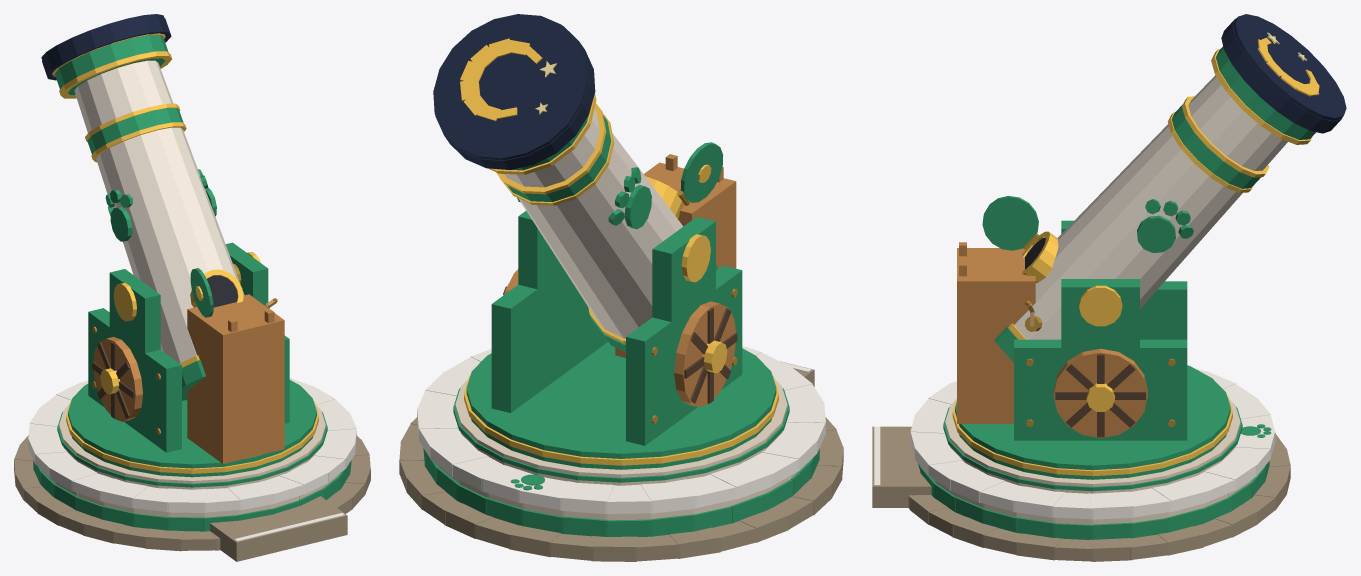
Rendered from CatCafe_Camp_Cannon_Ruins.glb.
The picture shows the model from 3 angles, left to right: view 1: azimuth 30°, elevation 25°; view 2: azimuth 150°, elevation 25°; view 3: azimuth 270°, elevation 25°; orthographic projection. The views are drawn at different scales.
Parts seen in each view (by area): view 1: CatCafe_Camp_Cannon_Ruins_Turret, CatCafe_Camp_Cannon_Ruins, CatCafe_Camp_Cannon_Ruins_Climb, CatCafe_Camp_Cannon_Ruins_MoonCover; view 2: CatCafe_Camp_Cannon_Ruins_Turret, CatCafe_Camp_Cannon_Ruins, CatCafe_Camp_Cannon_Ruins_MoonCover, CatCafe_Camp_Cannon_Ruins_Climb; view 3: CatCafe_Camp_Cannon_Ruins_Turret, CatCafe_Camp_Cannon_Ruins, CatCafe_Camp_Cannon_Ruins_Climb, CatCafe_Camp_Cannon_Ruins_MoonCover.
Boxes of the visible parts, x1,y1,x2,y2 form: CatCafe_Camp_Cannon_Ruins_Turret: (52, 33, 318, 477); CatCafe_Camp_Cannon_Ruins: (14, 378, 370, 561); CatCafe_Camp_Cannon_Ruins_Climb: (187, 294, 284, 463); CatCafe_Camp_Cannon_Ruins_MoonCover: (41, 14, 171, 80); CatCafe_Camp_Cannon_Ruins_Turret: (464, 94, 778, 469); CatCafe_Camp_Cannon_Ruins: (399, 346, 843, 561); CatCafe_Camp_Cannon_Ruins_MoonCover: (433, 14, 595, 169); CatCafe_Camp_Cannon_Ruins_Climb: (615, 162, 736, 357); CatCafe_Camp_Cannon_Ruins_Turret: (952, 46, 1315, 479); CatCafe_Camp_Cannon_Ruins: (872, 368, 1290, 561); CatCafe_Camp_Cannon_Ruins_Climb: (957, 248, 1035, 423); CatCafe_Camp_Cannon_Ruins_MoonCover: (1221, 14, 1346, 133).
Size of the model in its own units: 7.54 by 9.55 by 9.03.
1 material, 1 textured.
